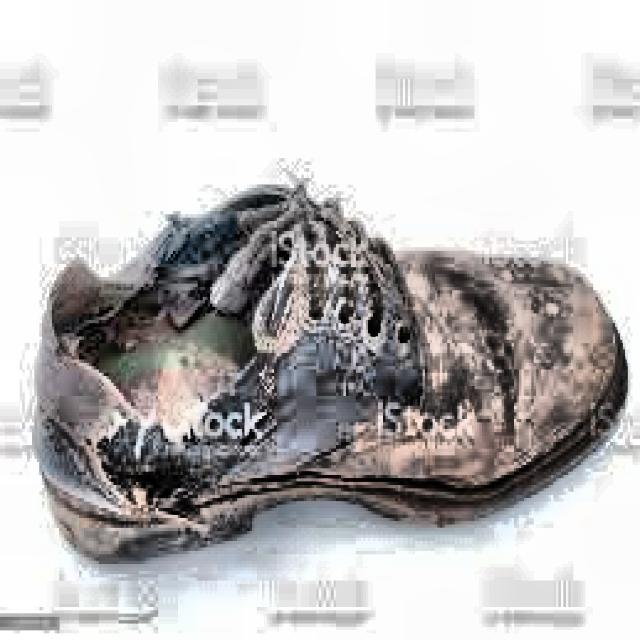shoes: (31, 178, 628, 565)
